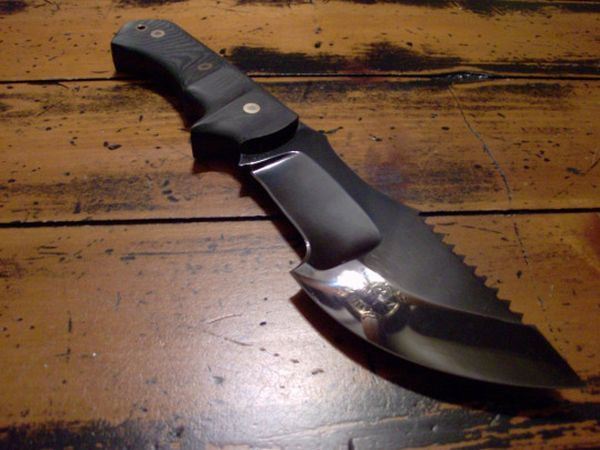knife: (107, 15, 590, 394)
